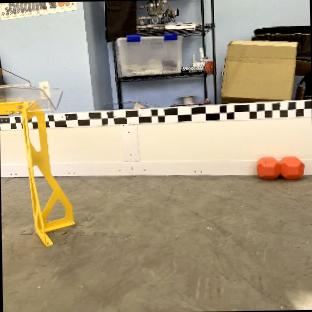Goal: (0, 69, 74, 245)
V5_RED: (256, 155, 304, 179)
